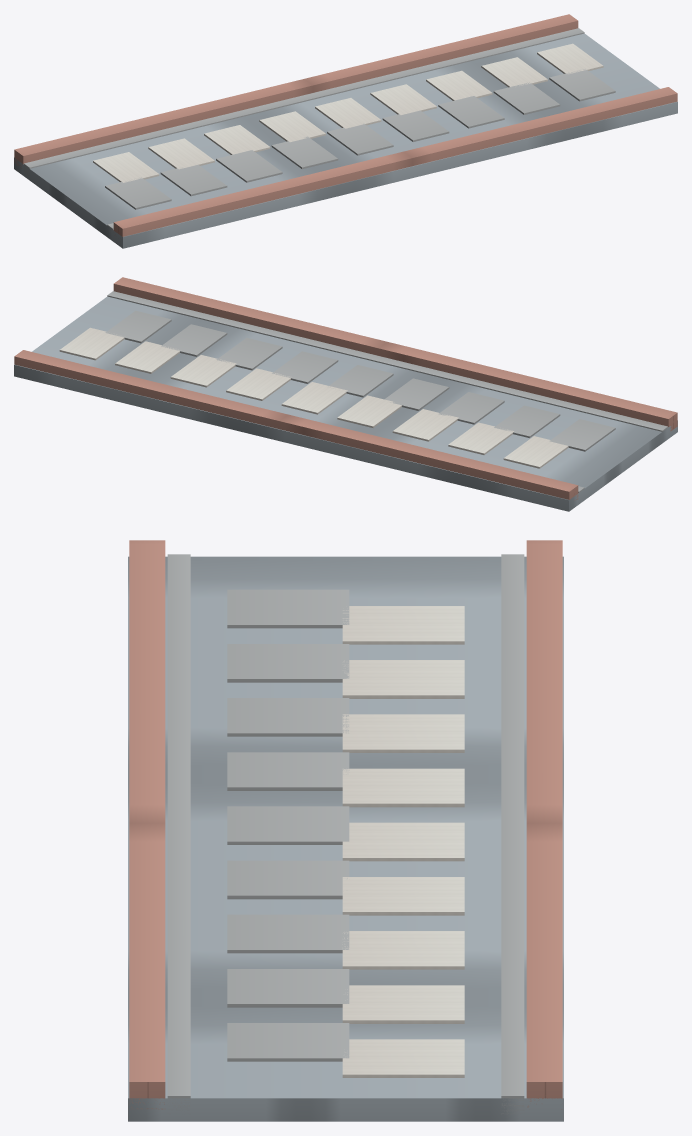
File: alley_pavers.glb
3 views of the same model, one above another, from view 1: azimuth 30°, elevation 25°; view 2: azimuth 150°, elevation 25°; view 3: azimuth 270°, elevation 25° (orthographic). The views are drawn at different scales.
Parts seen in each view (by area): view 1: alley_pavers; view 2: alley_pavers; view 3: alley_pavers.
Boxes of the visible parts, x1=… form: alley_pavers: x1=14, y1=14, x2=677, y2=248; alley_pavers: x1=14, y1=277, x2=677, y2=511; alley_pavers: x1=128, y1=540, x2=563, y2=1121.
Bounding box in the file's own units: 10 × 0.34 × 3.4.
1 material, 1 textured.
